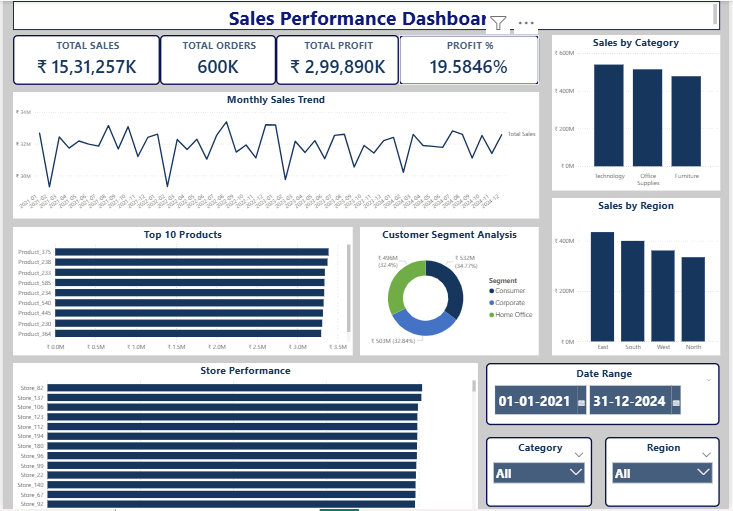

What the dashboard file says about the page in this screenshot:
{"tool":"powerbi","page":{"name":"Sales Performance Dashboard","canvas":[1600,1120],"ordinal":0},"visuals":[{"type":"textbox","box":[22,0,1558.7,63.9],"z":0},{"type":"card","title":"TOTAL SALES","fields":{"Values":["fact_sales.Total Sales"]},"box":[22,75,324.1,110.2],"z":1000},{"type":"card","title":"TOTAL ORDERS","fields":{"Values":["fact_sales.Total Orders"]},"box":[346.1,75,255.7,110.2],"z":2000},{"type":"card","title":"TOTAL PROFIT","fields":{"Values":["fact_sales.Total Profit"]},"box":[601.9,75,271.2,110.2],"z":3000},{"type":"card","title":"PROFIT %","fields":{"Values":["fact_sales.Profit %"]},"box":[873.1,75,308.7,110.2],"z":4000},{"type":"lineChart","title":"Monthly Sales Trend","fields":{"Category":["Date.Year-Month"],"Y":["fact_sales.Total Sales"]},"box":[21.3,200.8,1159.8,278.7],"z":5000},{"type":"columnChart","title":"Sales by Category","fields":{"Category":["dim_products.Category"],"Y":["fact_sales.Total Sales"]},"box":[1209.4,75.6,370.9,342.5],"z":6000},{"type":"columnChart","title":"Sales by Region","fields":{"Y":["fact_sales.Total Sales"],"Category":["dim_stores.Region"]},"box":[1209.4,434.6,370.9,347.2],"z":7000},{"type":"barChart","title":"Top 10 Products","fields":{"Category":["dim_products.Product_Name"],"Y":["fact_sales.Total Sales"]},"box":[21.3,498.4,748.8,283.5],"z":8000},{"type":"donutChart","title":"Customer Segment Analysis","fields":{"Category":["dim_customers.Segment"],"Y":["fact_sales.Total Sales"]},"box":[786.6,498.4,394.5,283.5],"z":9000},{"type":"clusteredBarChart","title":"Store Performance","fields":{"Category":["dim_stores.Store_Name"],"Y":["fact_sales.Total Sales"]},"box":[21.3,798.4,1025.2,401.6],"z":10000},{"type":"slicer","title":"Date Range","fields":{"Values":["Date.Date"]},"box":[1065.4,798.4,515,137],"z":11000},{"type":"slicer","title":"Region","fields":{"Values":["dim_stores.Region"]},"box":[1327.6,961.4,252.8,153.5],"z":12000},{"type":"slicer","title":"Category","fields":{"Values":["dim_products.Category"]},"box":[1065.4,961.4,233.9,153.5],"z":13000}]}

Visuals, with their boxes in screenshot pixels (x1, y1, x2, y2), scaled from the page's 1600x1120 canvas onto the 733x511 screenshot:
textbox: {"x1": 10, "y1": 0, "x2": 724, "y2": 29}
"TOTAL SALES" card: {"x1": 10, "y1": 34, "x2": 159, "y2": 84}
"TOTAL ORDERS" card: {"x1": 159, "y1": 34, "x2": 276, "y2": 84}
"TOTAL PROFIT" card: {"x1": 276, "y1": 34, "x2": 400, "y2": 84}
"PROFIT %" card: {"x1": 400, "y1": 34, "x2": 541, "y2": 84}
"Monthly Sales Trend" lineChart: {"x1": 10, "y1": 92, "x2": 541, "y2": 219}
"Sales by Category" columnChart: {"x1": 554, "y1": 34, "x2": 724, "y2": 191}
"Sales by Region" columnChart: {"x1": 554, "y1": 198, "x2": 724, "y2": 357}
"Top 10 Products" barChart: {"x1": 10, "y1": 227, "x2": 353, "y2": 357}
"Customer Segment Analysis" donutChart: {"x1": 360, "y1": 227, "x2": 541, "y2": 357}
"Store Performance" clusteredBarChart: {"x1": 10, "y1": 364, "x2": 479, "y2": 510}
"Date Range" slicer: {"x1": 488, "y1": 364, "x2": 724, "y2": 427}
"Region" slicer: {"x1": 608, "y1": 439, "x2": 724, "y2": 509}
"Category" slicer: {"x1": 488, "y1": 439, "x2": 595, "y2": 509}
